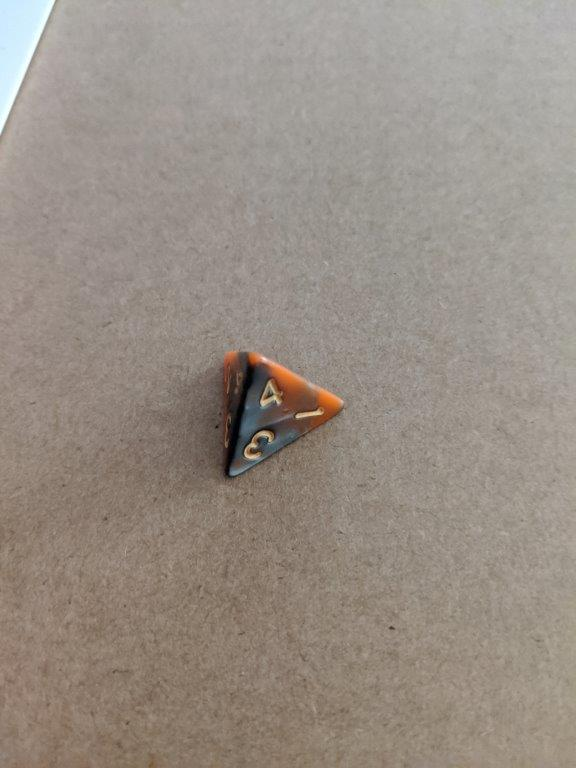d4-4: (214, 344, 353, 487)
